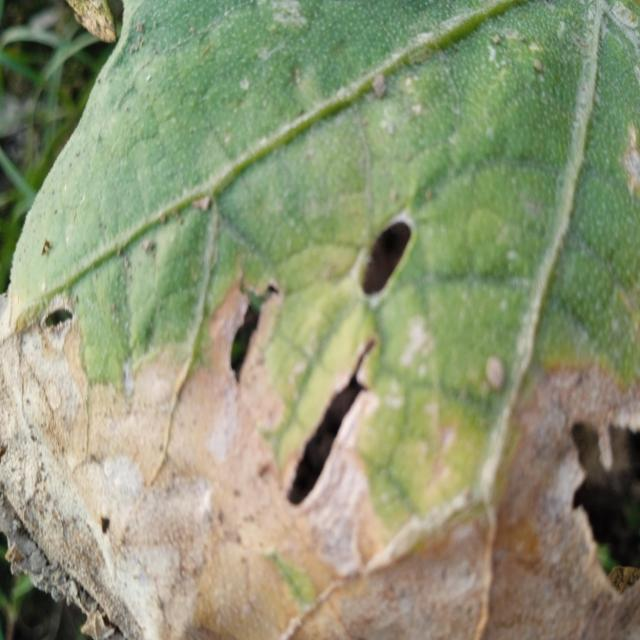cucumber_anthracnose: (38, 7, 637, 590)
